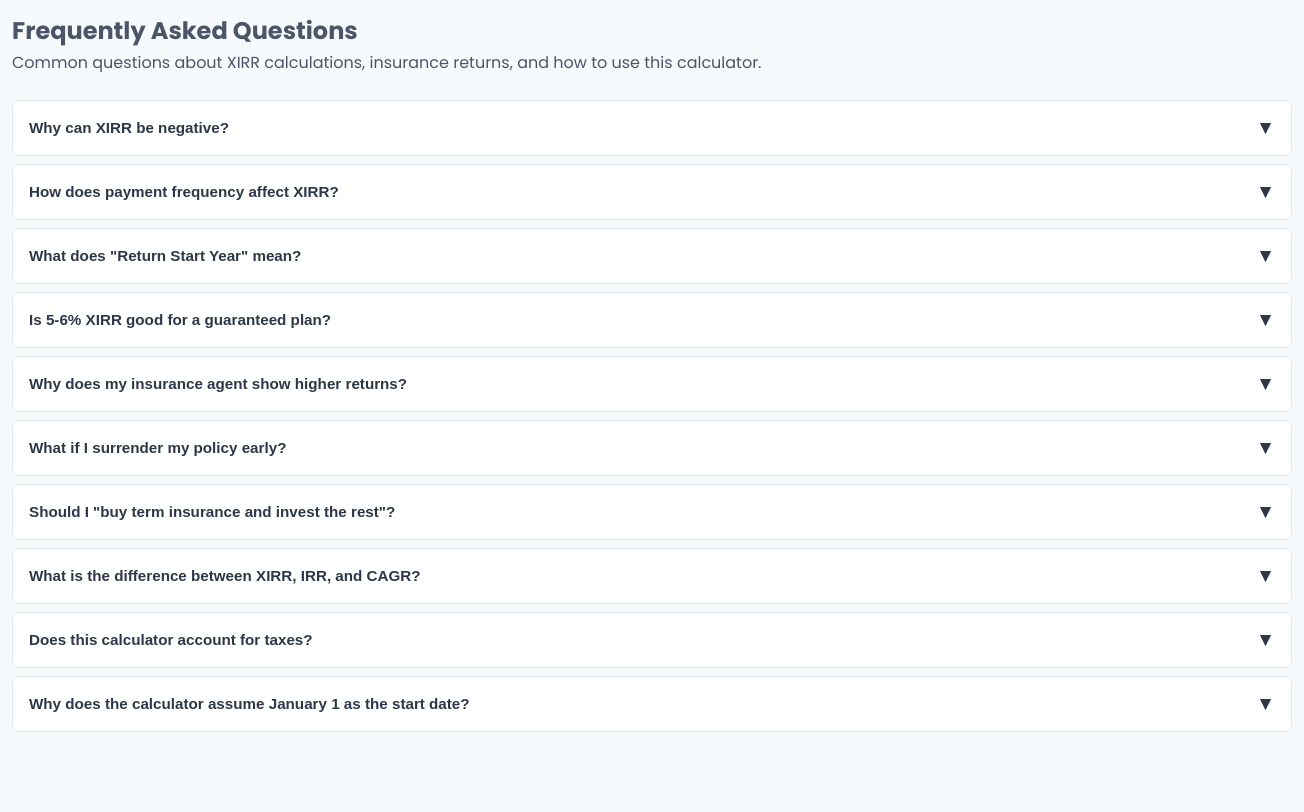
FAQ Component › collapses an answer when clicked again
Click the text "Why can XIRR be negative?".
click(129, 128)  # box [29,120,229,136]
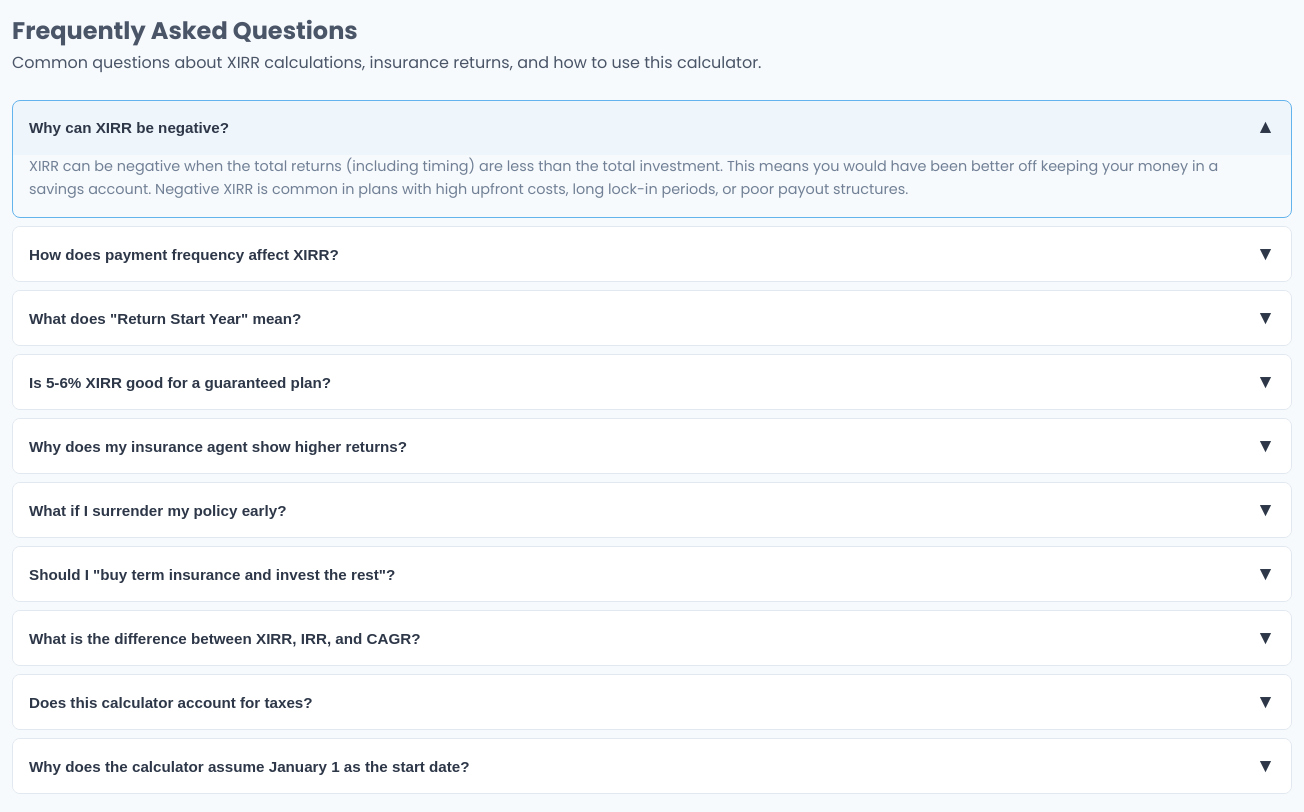
Result: the text "XIRR can be negative when the total returns" is shown at [29,156,1218,199]
Click the text "Why can XIRR be negative?".
click(129, 128)  # box [29,120,229,136]
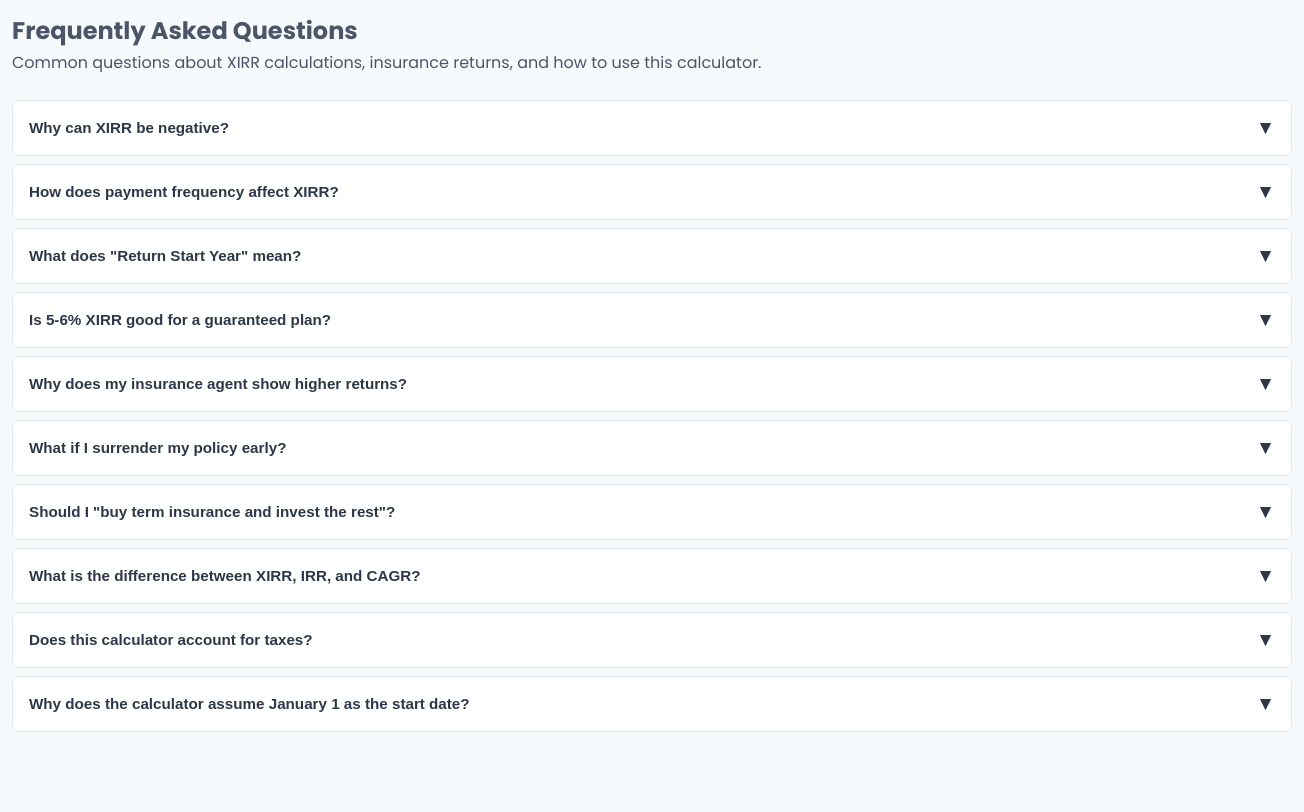
Result: the text "XIRR can be negative when the total returns" is gone
